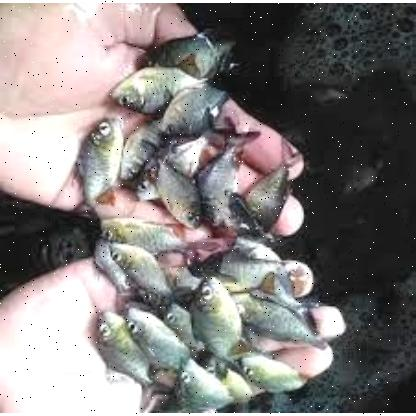ikan-pacu: (243, 288, 337, 354), (195, 131, 255, 228), (188, 272, 243, 362), (106, 60, 198, 112), (72, 116, 122, 209), (96, 306, 148, 388), (120, 306, 188, 368), (250, 145, 298, 227), (96, 241, 166, 291), (162, 78, 232, 128), (153, 158, 199, 228), (120, 115, 164, 172), (104, 216, 173, 252), (171, 361, 217, 412)
